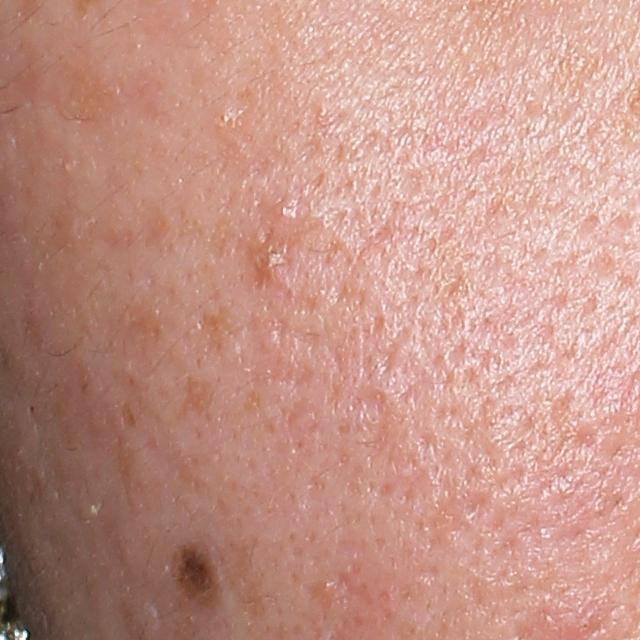comedo: (319, 576, 345, 597)
nevus: (164, 539, 223, 601)
